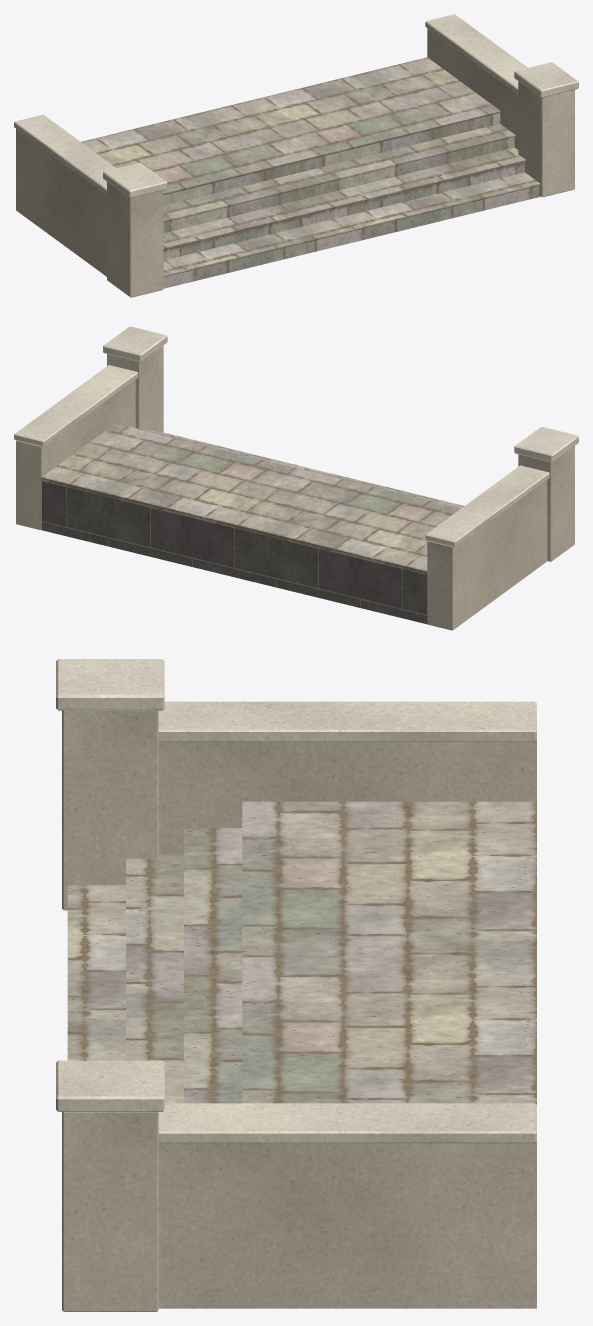
Rendered from podium.glb.
The picture shows the model from 3 angles, top to bottom: view 1: azimuth 30°, elevation 25°; view 2: azimuth 150°, elevation 25°; view 3: azimuth 270°, elevation 25°; orthographic projection. The views are drawn at different scales.
Visible parts, largest first — view 1: podium_stone2, podium_ashlar, podium_trim; view 2: podium_stone2, podium_ashlar, podium_plinth, podium_trim; view 3: podium_stone2, podium_ashlar, podium_trim.
Boxes of the visible parts, x1,y1,x2,y2 form: podium_stone2: [81, 57, 540, 288]; podium_ashlar: [16, 28, 574, 297]; podium_trim: [14, 14, 578, 198]; podium_stone2: [41, 423, 464, 574]; podium_ashlar: [16, 345, 574, 630]; podium_plinth: [41, 481, 427, 624]; podium_trim: [14, 326, 578, 547]; podium_stone2: [67, 801, 536, 1104]; podium_ashlar: [62, 710, 536, 1311]; podium_trim: [56, 659, 536, 1143].
Bounding box in the file's own units: 5.36 × 1.25 × 2.48.
4 materials, 4 textured.
